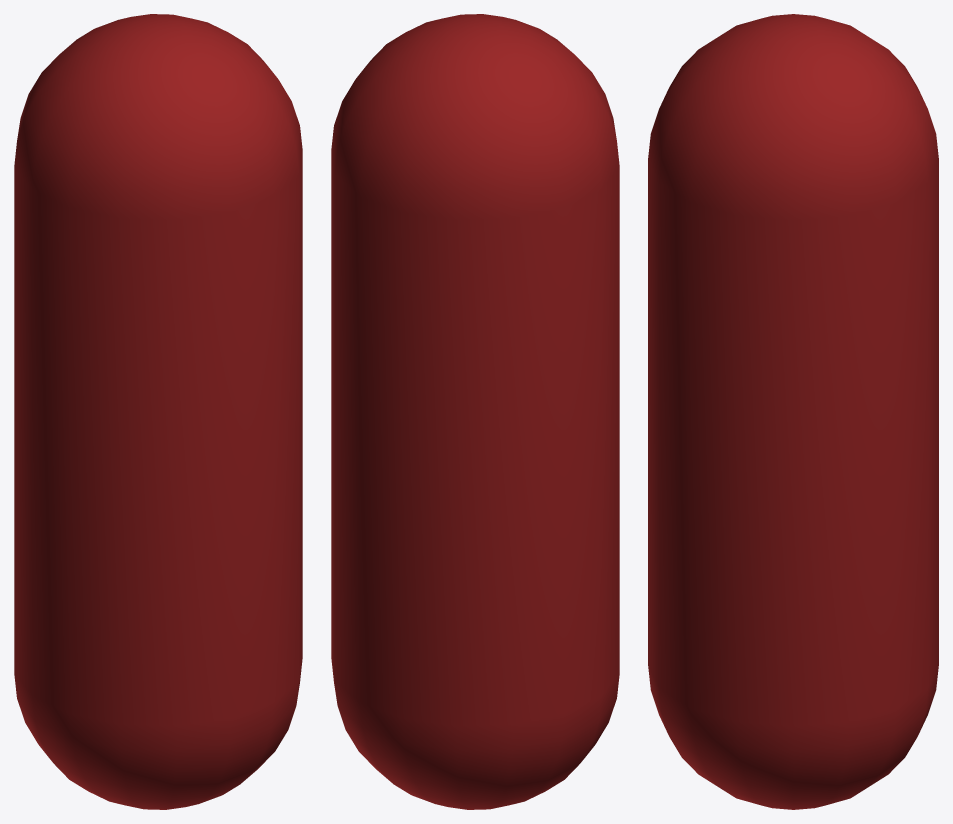
File: person.fbx
3 views of the same model, side by side, from view 1: azimuth 30°, elevation 25°; view 2: azimuth 150°, elevation 25°; view 3: azimuth 270°, elevation 25° (orthographic).
Parts seen in each view (by area): view 1: people; view 2: people; view 3: people.
Boxes of the visible parts, x1,y1,x2,y2 form: people: (14, 14, 302, 809); people: (331, 14, 619, 809); people: (648, 14, 938, 809).
Size of the model in its own units: 0.6 by 1.75 by 0.6.
